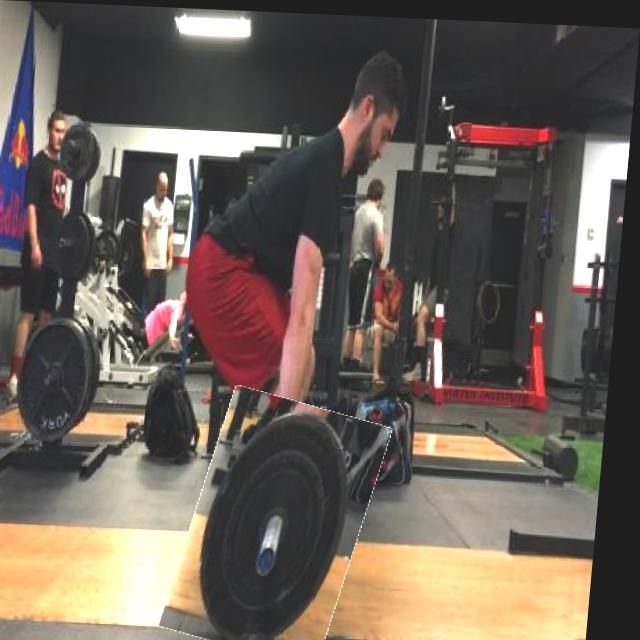barbell: (181, 389, 390, 640)
